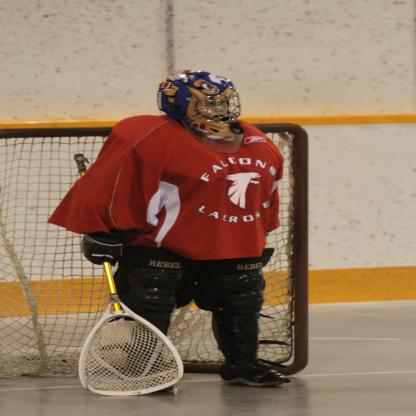Helmet: (154, 67, 248, 140)
